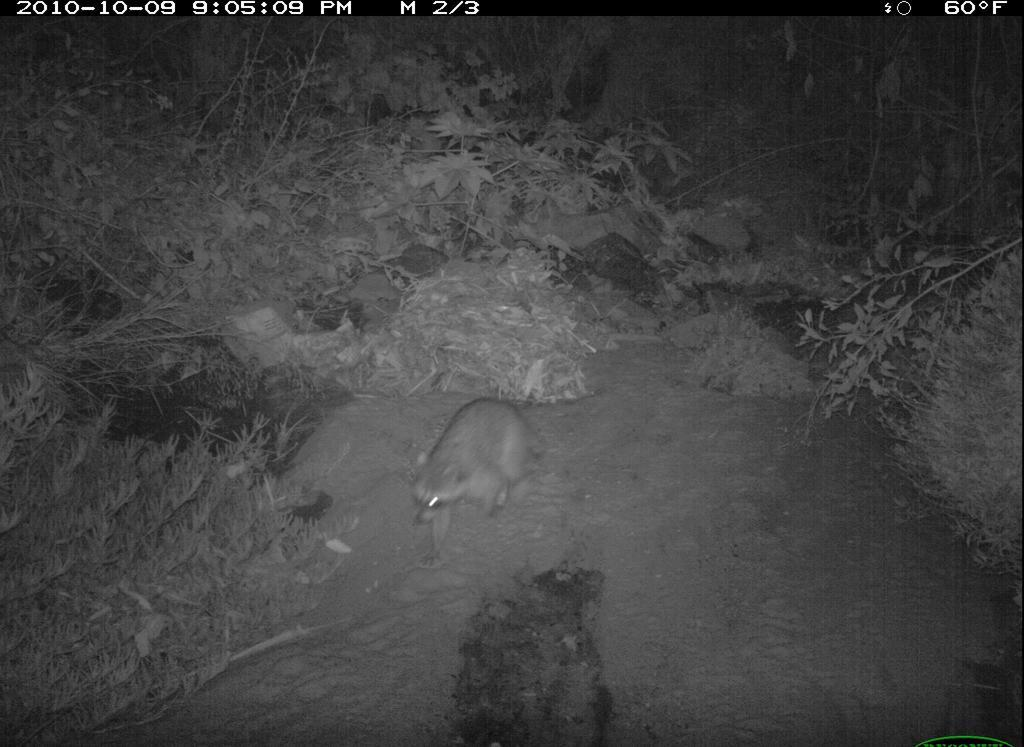raccoon: (394, 386, 568, 579)
